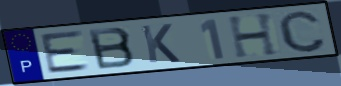1: (199, 17, 225, 60)
B: (86, 26, 138, 72)
C: (276, 8, 329, 54)
E: (38, 29, 93, 76)
H: (225, 11, 282, 60)
K: (138, 22, 182, 65)
